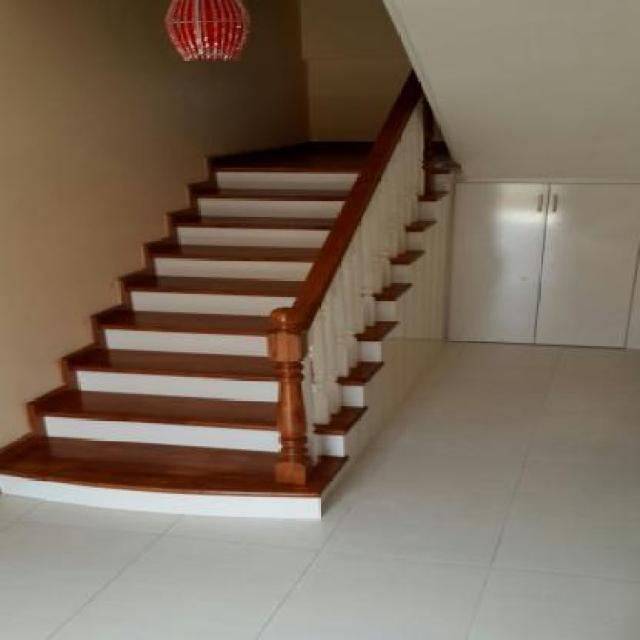stair: (0, 88, 482, 514)
